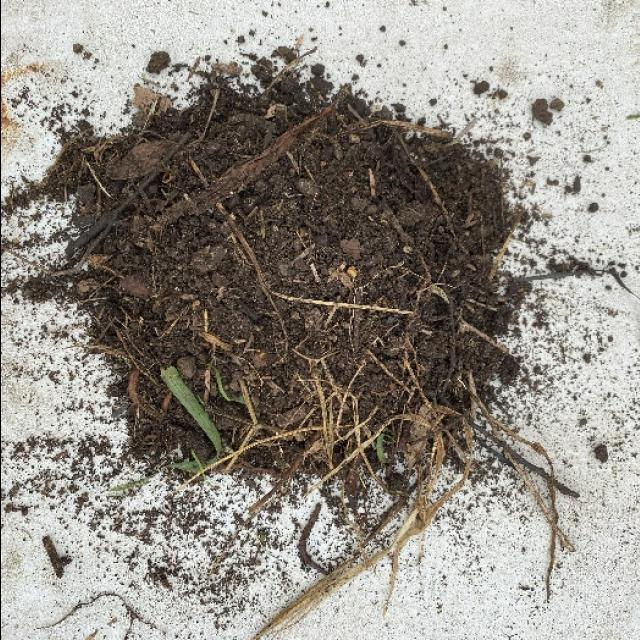organik: (78, 92, 504, 484)
